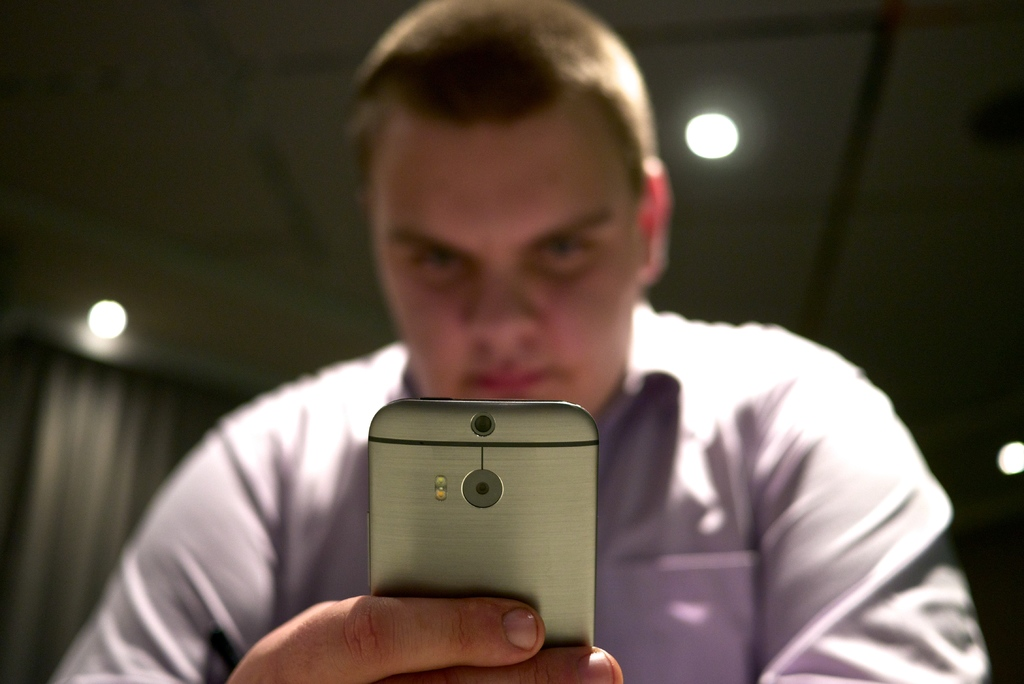Mobile-phone: (364, 398, 602, 661)
